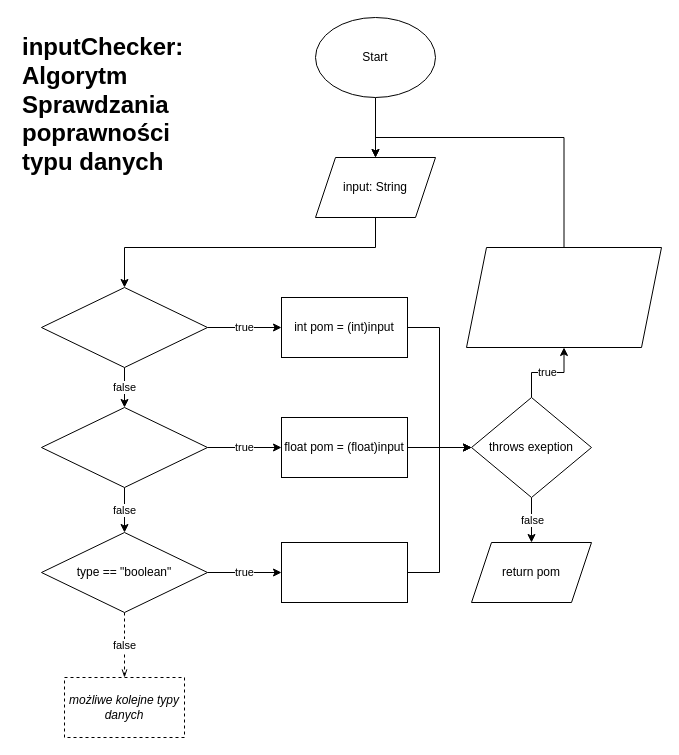
Image size: 679x755. Some labels were removed from this diagram. Each missing label, with the centre of its shape:
"Typ danych wejścia nie pasuje do typu wymaganego. Spróbuj ponownie": point (564, 297)
boolean pom = (boolean)input: point (344, 572)
type == "float": point (124, 447)
type == "int": point (124, 327)
